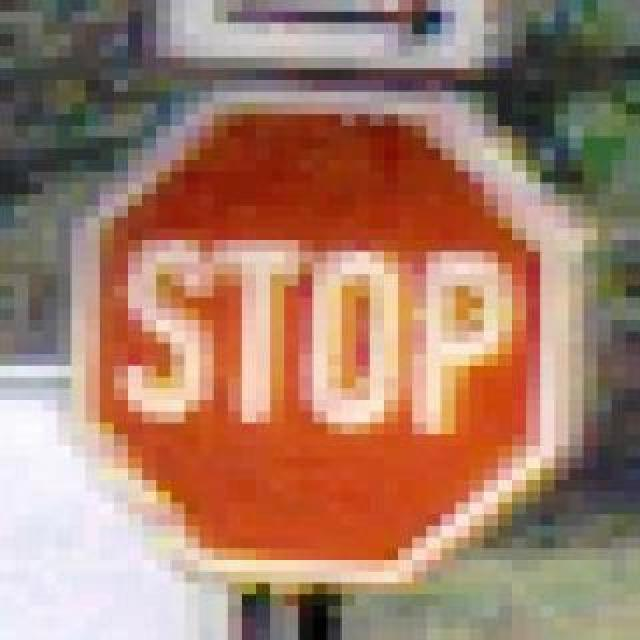stop: (44, 68, 556, 584)
